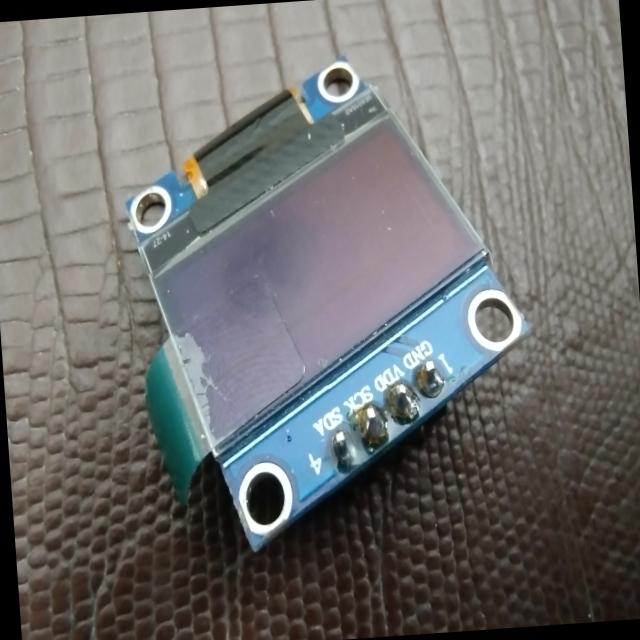oled: (103, 37, 555, 564)
